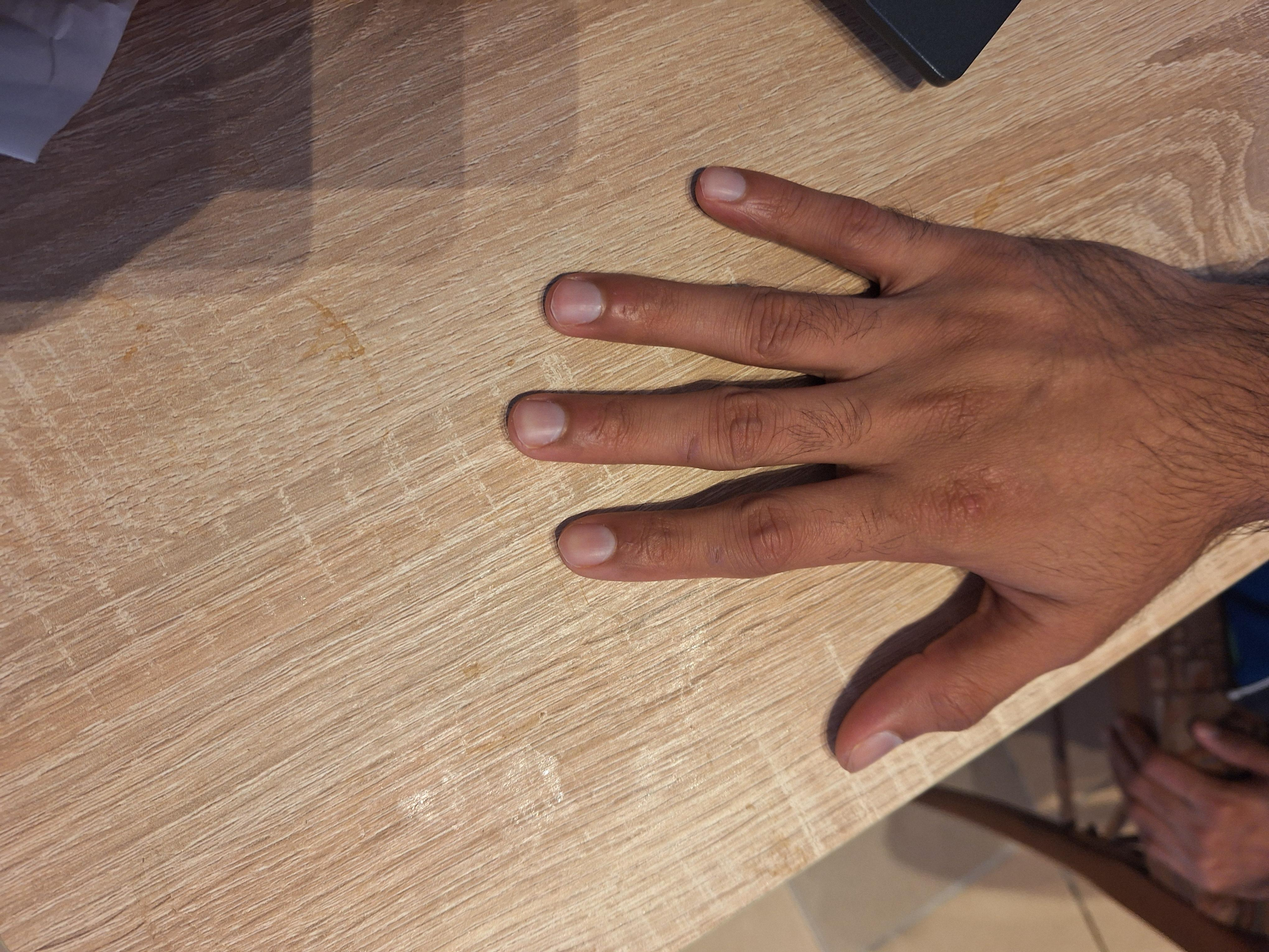Fingernail: (557, 525, 616, 568), (513, 401, 565, 449), (846, 731, 904, 774), (551, 279, 602, 327), (699, 167, 746, 201)
